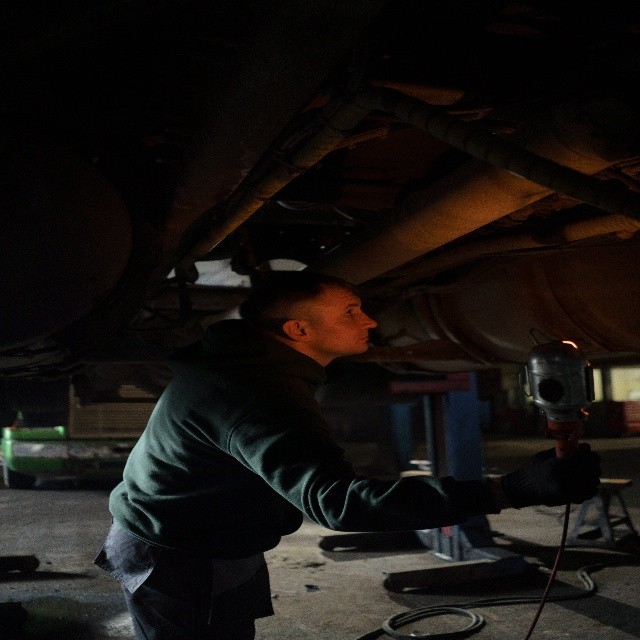Guantes: (499, 441, 603, 509)
